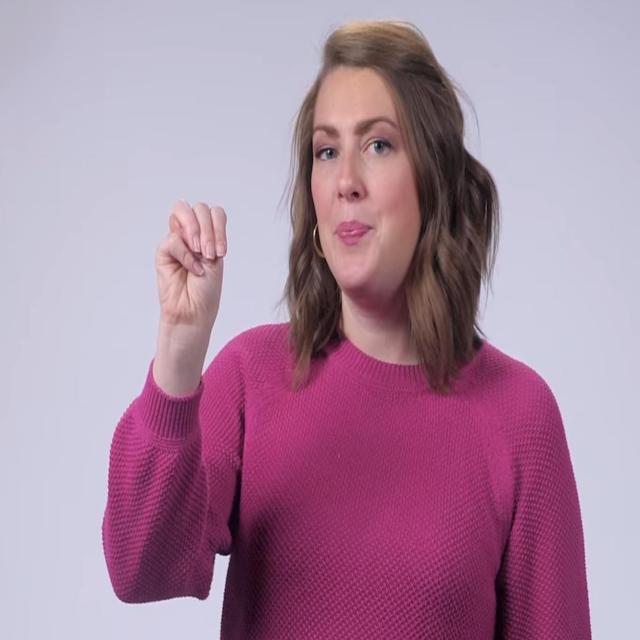M: (154, 198, 230, 334)
